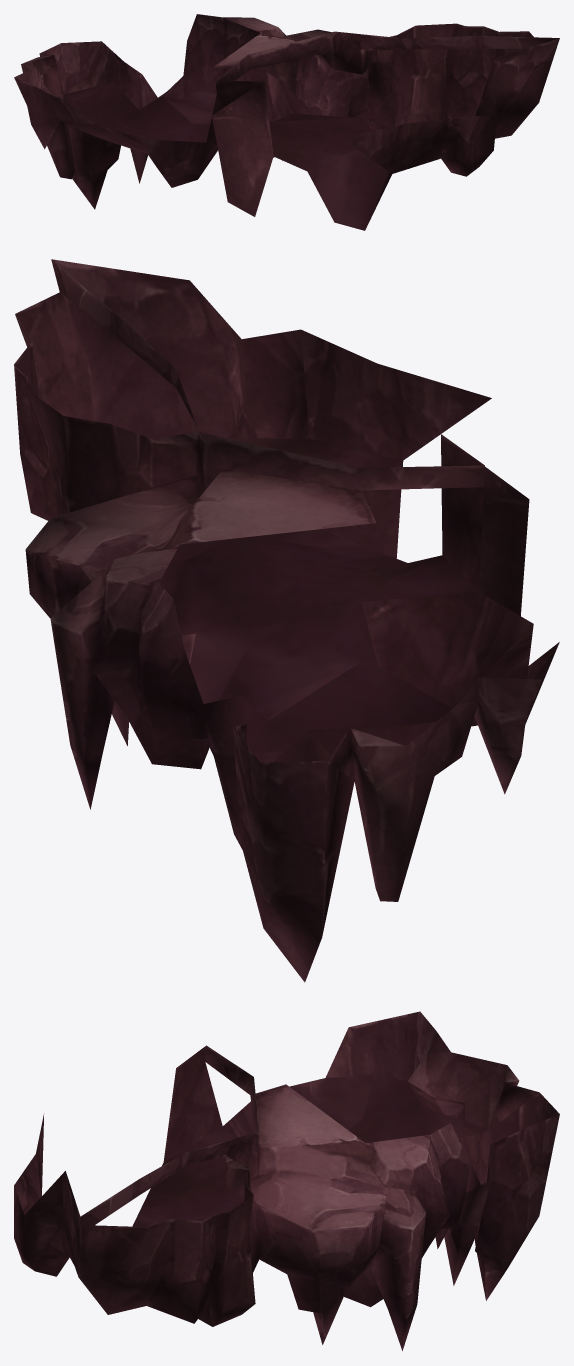
The model's file is Area_04_6.fbx.
3 views of the same model, one above another, from view 1: azimuth 30°, elevation 25°; view 2: azimuth 150°, elevation 25°; view 3: azimuth 270°, elevation 25° (orthographic). The views are drawn at different scales.
Visible parts, largest first — view 1: Area_04_6; view 2: Area_04_6; view 3: Area_04_6.
Part boxes in pixels (x1=…): Area_04_6: x1=14, y1=14, x2=559, y2=230; Area_04_6: x1=14, y1=259, x2=559, y2=982; Area_04_6: x1=14, y1=1011, x2=559, y2=1350.
Bounding box in the file's own units: 4000 × 2017 × 3652.
